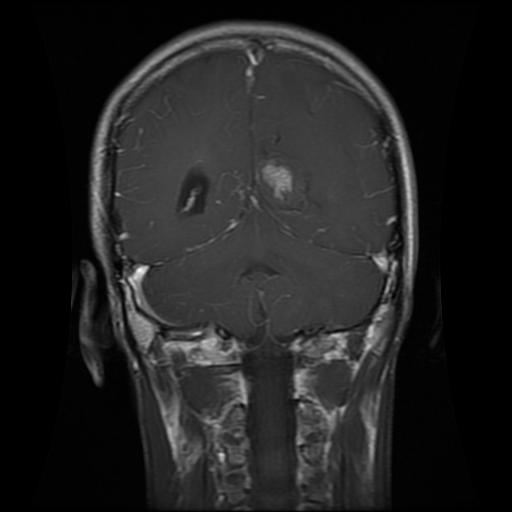Gliomia_tumour: (234, 144, 324, 216)
